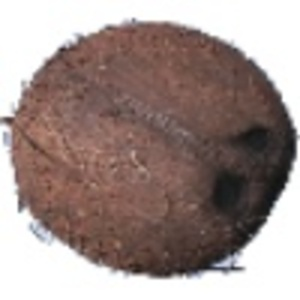coco: (1, 19, 296, 280)
